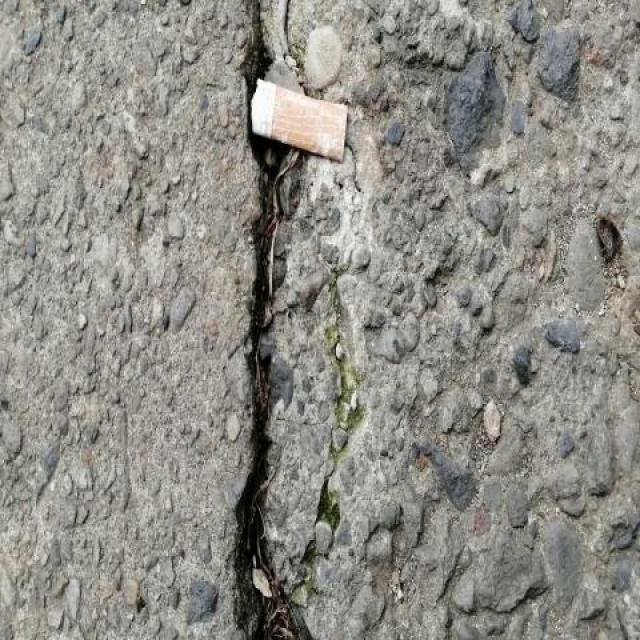non-organic waste: (247, 75, 353, 164)
